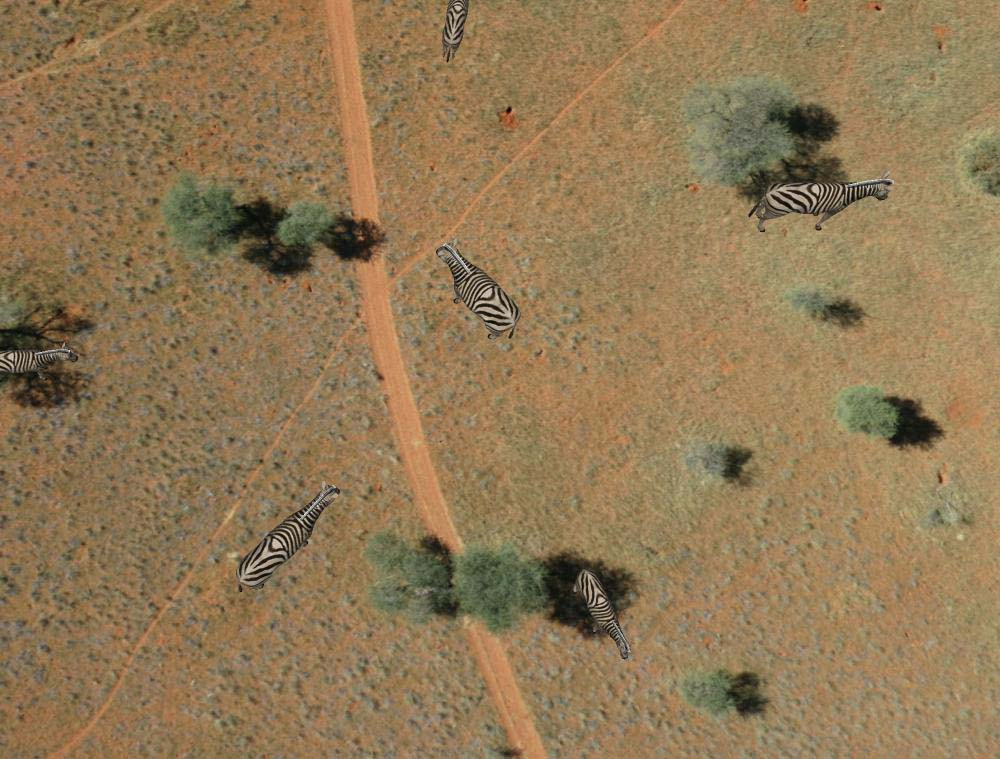zebra: (236, 473, 350, 596), (428, 237, 526, 345), (752, 178, 891, 234), (571, 569, 633, 661), (1, 335, 79, 396), (434, 1, 474, 64)
